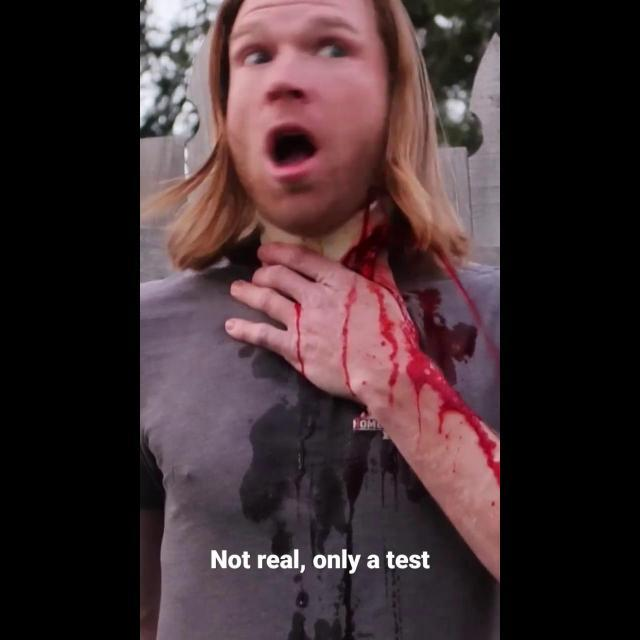blood: (342, 211, 500, 402), (371, 282, 500, 481), (340, 282, 357, 399), (290, 300, 309, 380), (284, 326, 290, 334)
